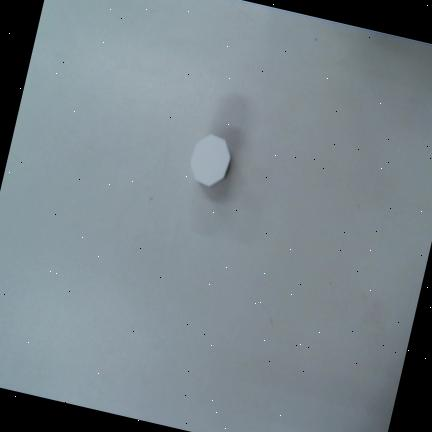Prisma_hexagonal: (190, 134, 231, 187)
